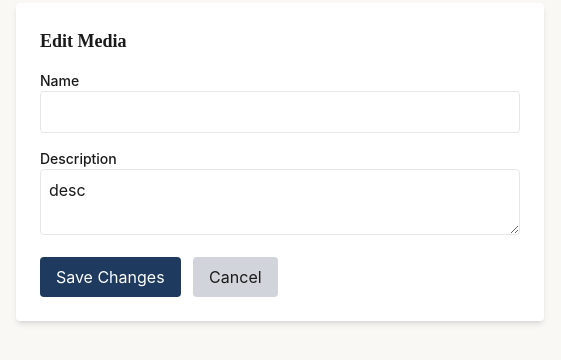
EditMediaModal › shows validation error when name is empty on submit
Click the button "Save Changes" at (110, 277), box [40,257,181,297]
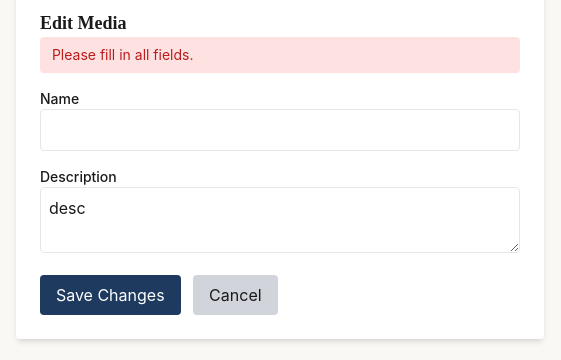
Expected: the text "Please fill in all fields." is shown, [40,37,520,73]
